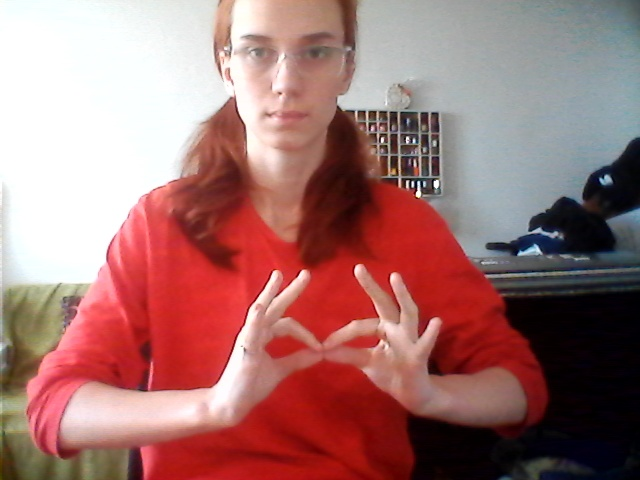b: (221, 260, 447, 439)
